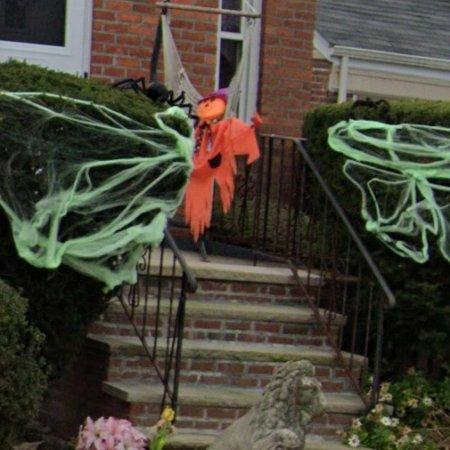stairs: (89, 246, 363, 445)
